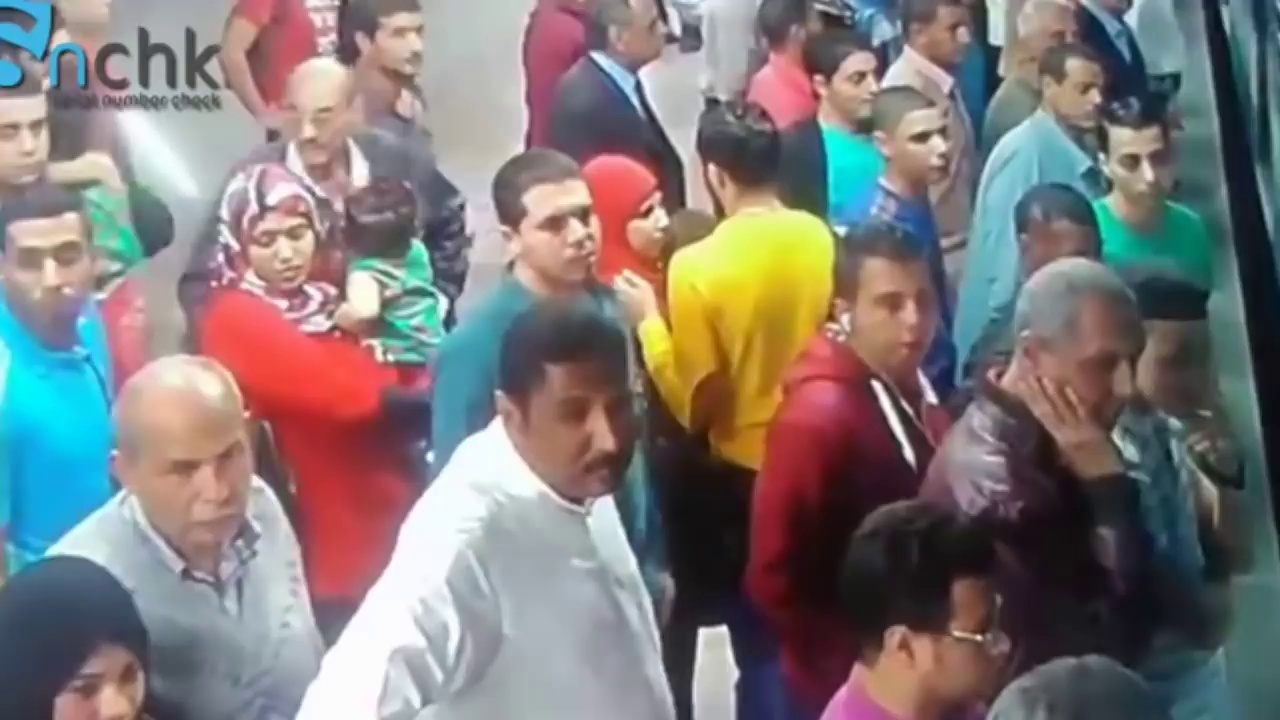face: (138, 427, 247, 546), (528, 368, 628, 490), (1058, 306, 1144, 419), (945, 582, 1016, 708), (517, 184, 608, 282), (52, 645, 155, 720), (863, 262, 936, 362), (17, 232, 88, 329), (241, 220, 318, 297), (1108, 127, 1167, 209), (0, 100, 50, 195), (892, 117, 955, 180), (285, 104, 344, 161), (626, 190, 672, 262), (379, 12, 423, 81), (928, 4, 972, 65), (827, 60, 874, 117), (1058, 65, 1102, 121)
